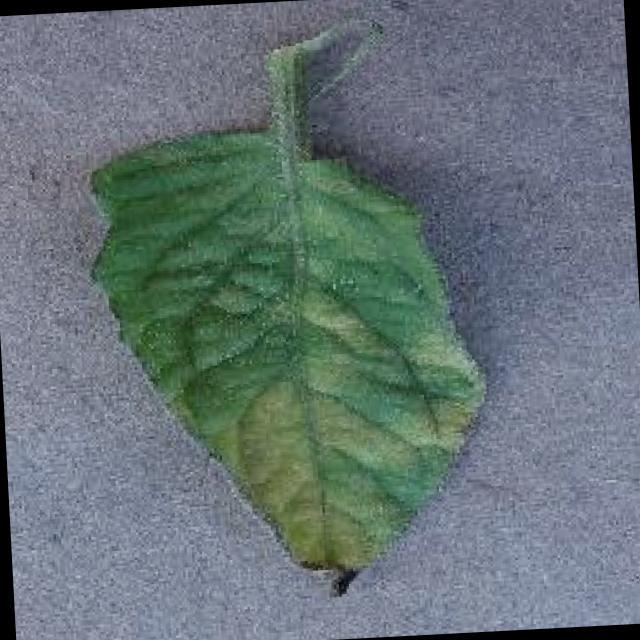Tomato mold leaf: (83, 116, 496, 612)
